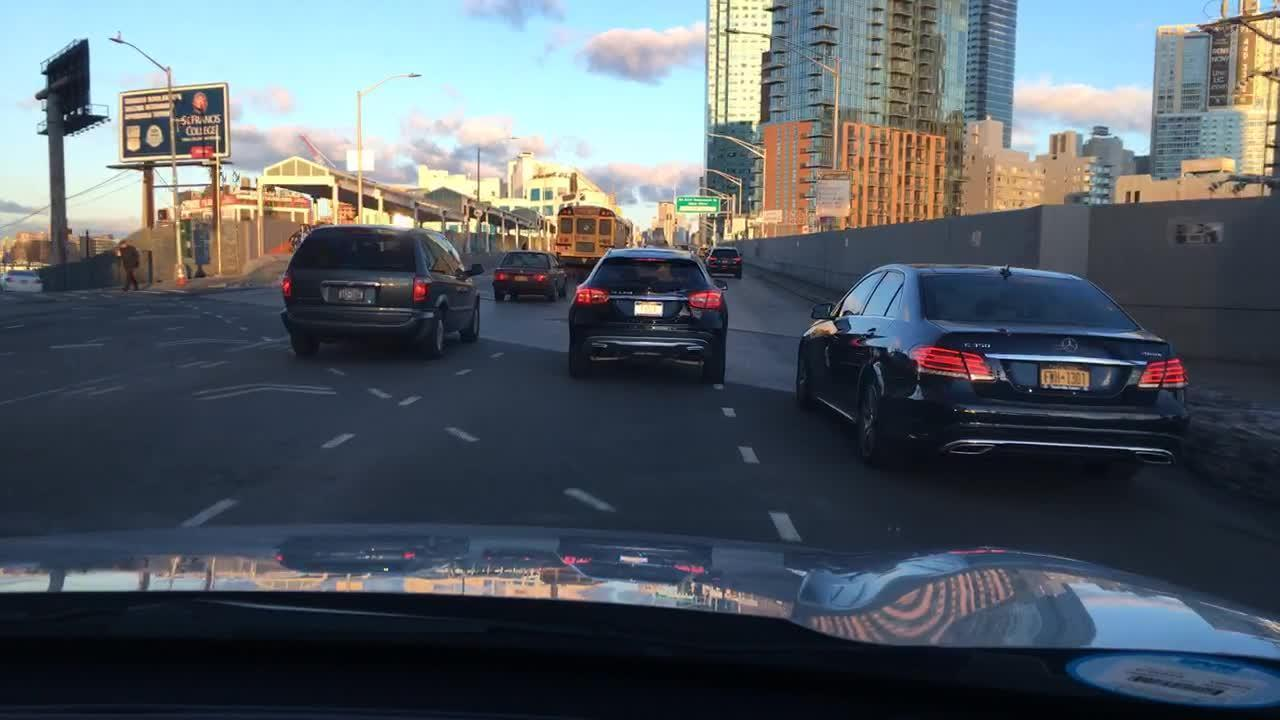Mercedes: (1053, 333, 1086, 360)
